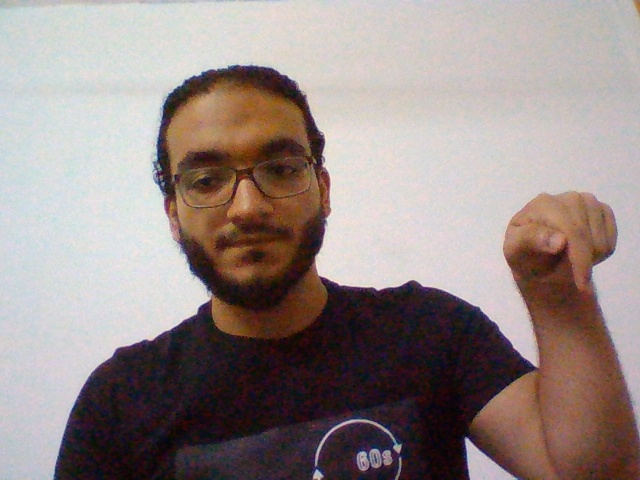Yes: (502, 183, 627, 298)
